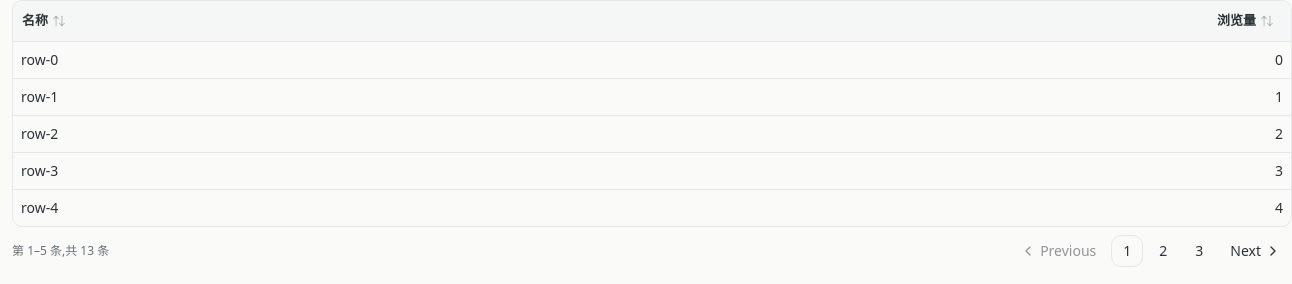
DataTable sorting and optional pagination › paginates only when pageSize is set and preserves the final partial page
Click the link with aria-label "Go to next page" at (1256, 250), box [1230,240,1281,260]
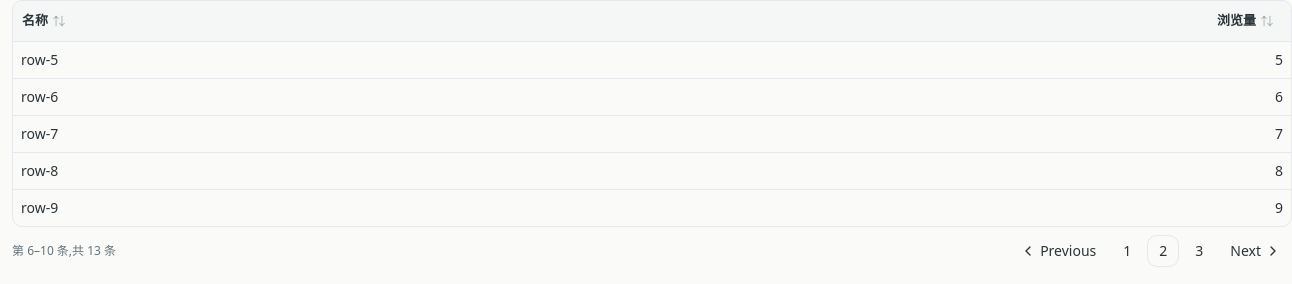
Click the link with aria-label "Go to next page" at (1256, 250), box [1230,240,1281,260]
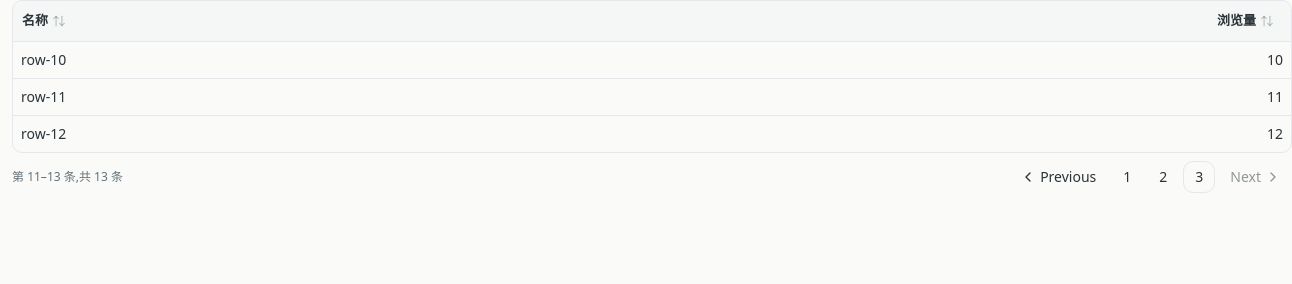
expect the link with aria-label "Go to next page" is disabled: met, box [1230,166,1281,186]
Click the link with aria-label "Go to previous page" at (1058, 176), box [1020,166,1096,186]
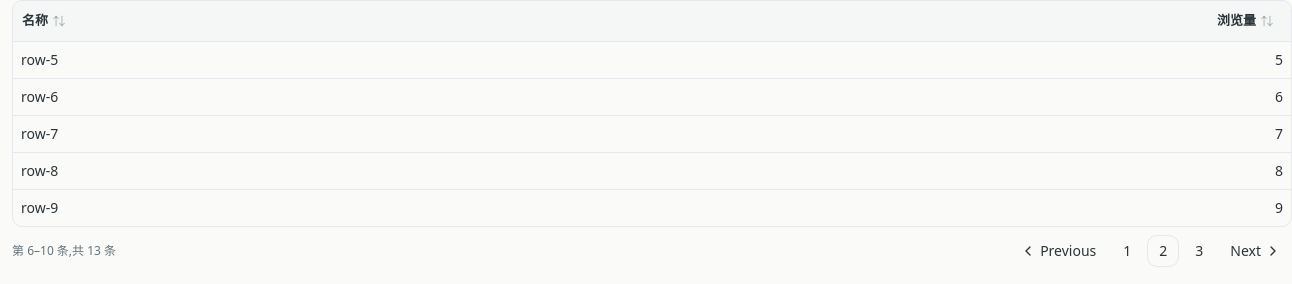
expect the cell "row-5" is shown: met, box [13,41,569,78]
